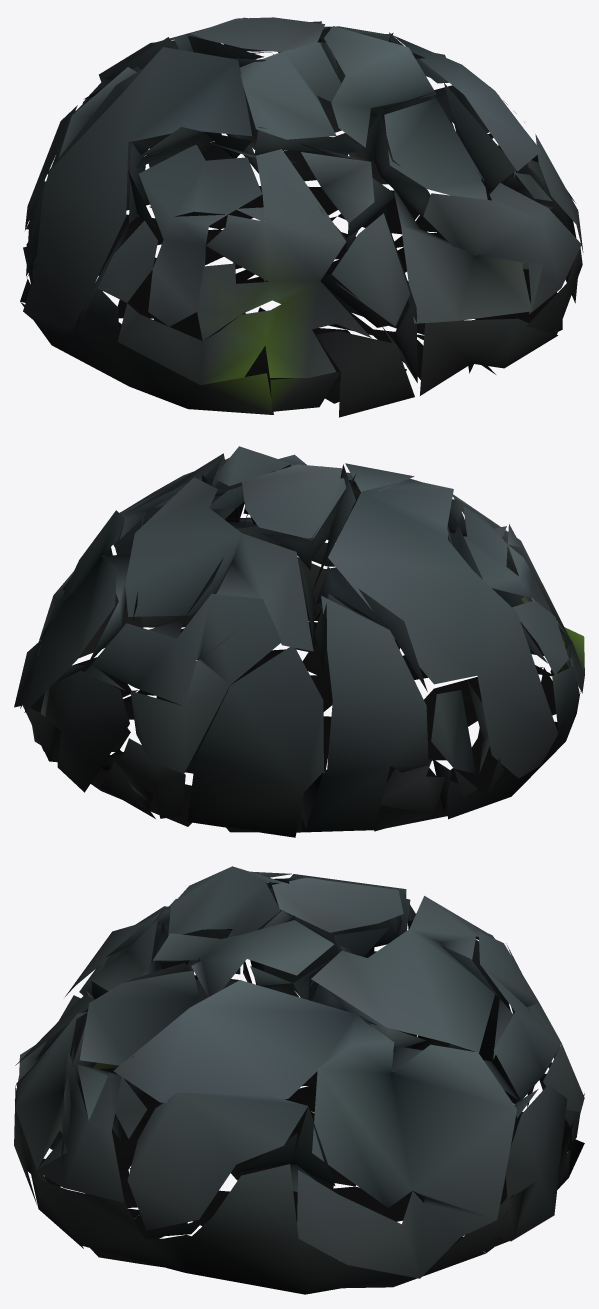
File: rock.glb
3 renders of one model, top to bottom at view 1: azimuth 30°, elevation 25°; view 2: azimuth 150°, elevation 25°; view 3: azimuth 270°, elevation 25°, orthographic. The views are drawn at different scales.
Visible parts, largest first — view 1: geometry_0; view 2: geometry_0; view 3: geometry_0.
Boxes of the visible parts, x1=… form: geometry_0: x1=20, y1=17, x2=583, y2=417; geometry_0: x1=14, y1=446, x2=584, y2=837; geometry_0: x1=14, y1=866, x2=584, y2=1294.
Bounding box in the file's own units: 30.94 × 16.18 × 29.54.
